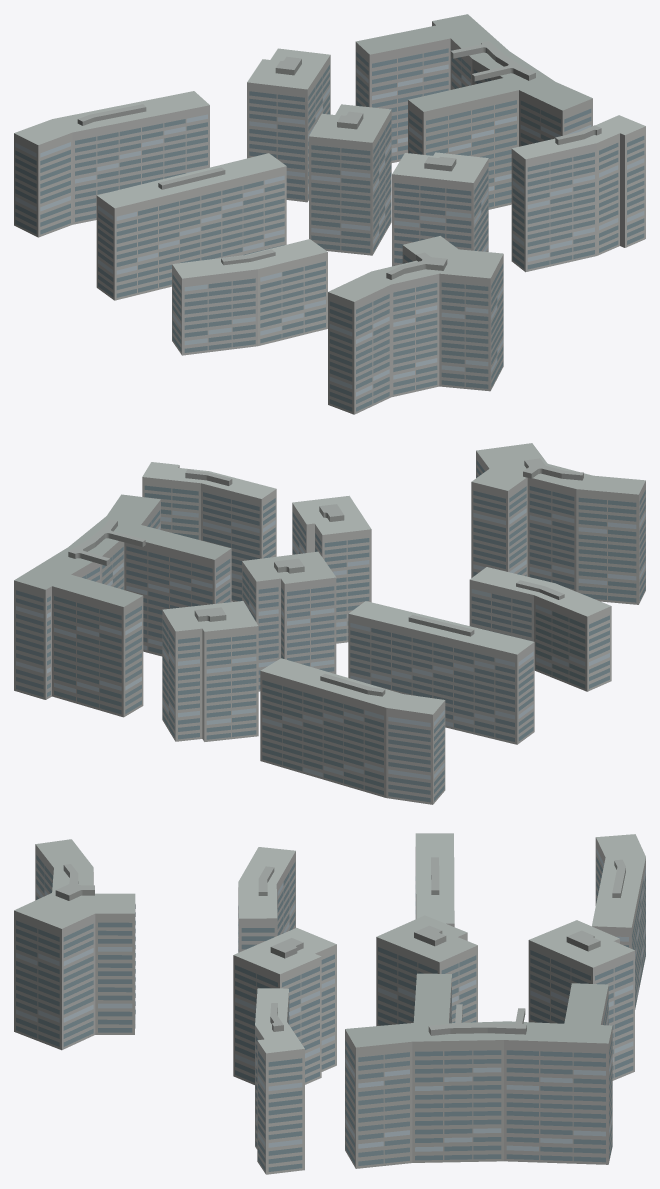
Rendered from apt-a15722010.glb.
3 views of the same model, one above another, from view 1: azimuth 30°, elevation 25°; view 2: azimuth 150°, elevation 25°; view 3: azimuth 270°, elevation 25° (orthographic). The views are drawn at different scales.
Visible parts, largest first — view 1: apt-a15722010; view 2: apt-a15722010; view 3: apt-a15722010.
Part boxes in pixels (x1,y1,x2,y2): apt-a15722010: (14,14,645,414); apt-a15722010: (14,443,645,804); apt-a15722010: (14,833,645,1174).
Bounding box in the file's own units: 182 × 44 × 198.
